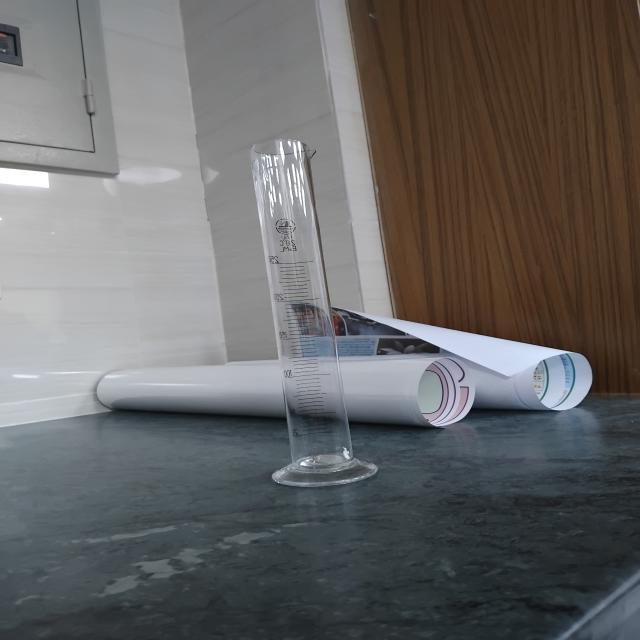Measuring_Cylinder: (209, 100, 432, 519)
